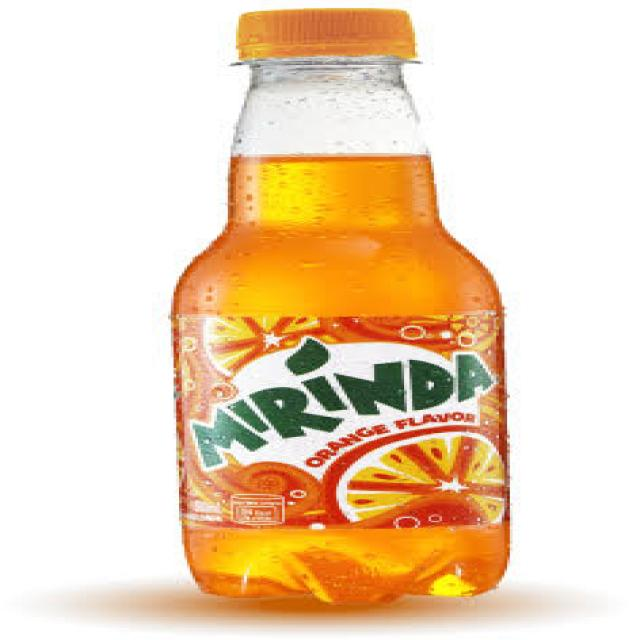plastic: (153, 3, 524, 613)
